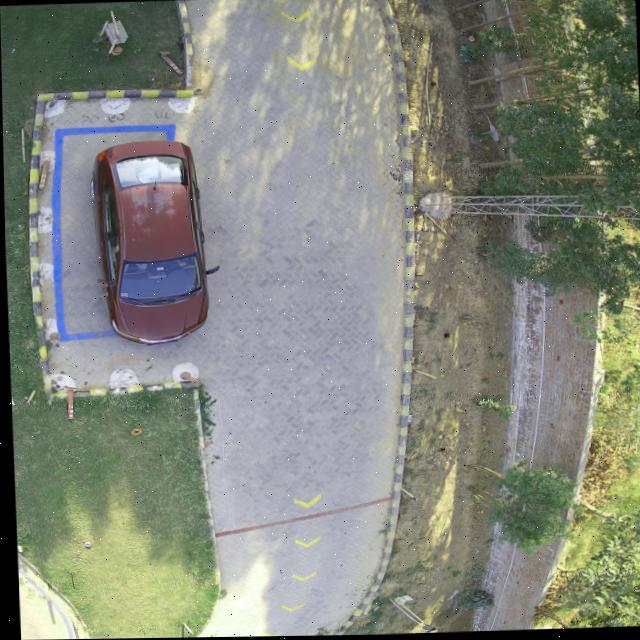car: (90, 137, 207, 343)
